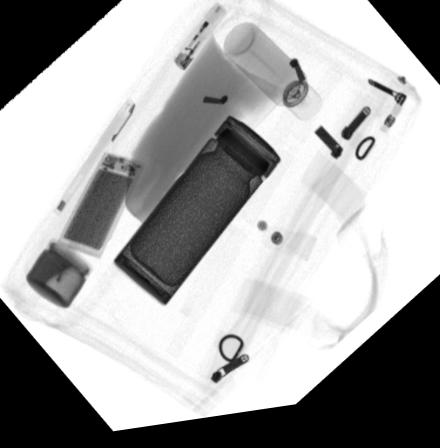Lighter: (171, 9, 227, 76)
Powerbank: (55, 153, 144, 262)
Sprayer: (223, 29, 323, 130)
